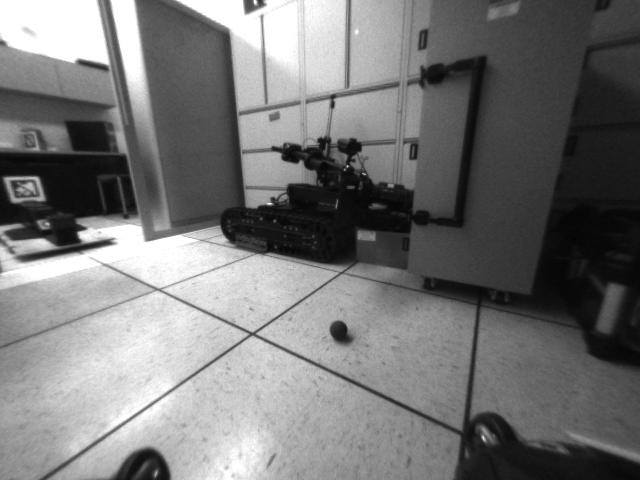dogtoy: (326, 316, 357, 347)
